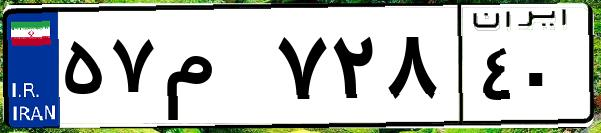0: (525, 38, 570, 115)
2: (330, 28, 385, 110)
4: (475, 38, 525, 113)
5: (57, 26, 110, 100)
7: (270, 28, 330, 110), (110, 28, 158, 98)
8: (385, 28, 445, 110)
م: (158, 20, 270, 120)
